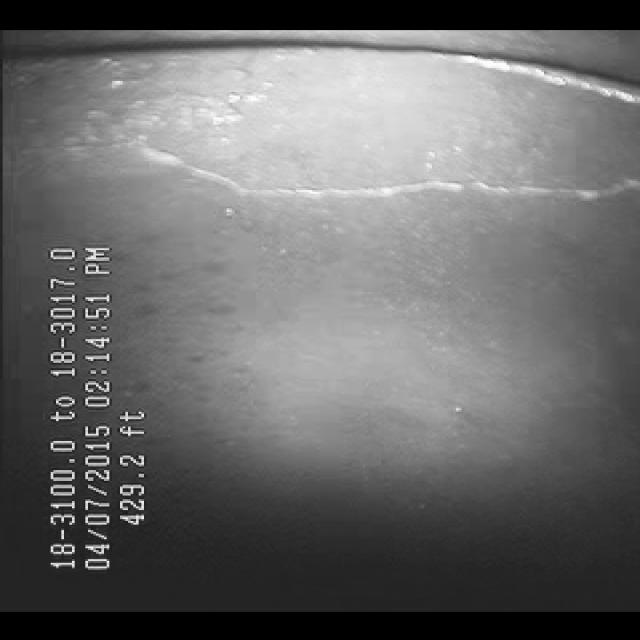Crack: (131, 125, 637, 211)
